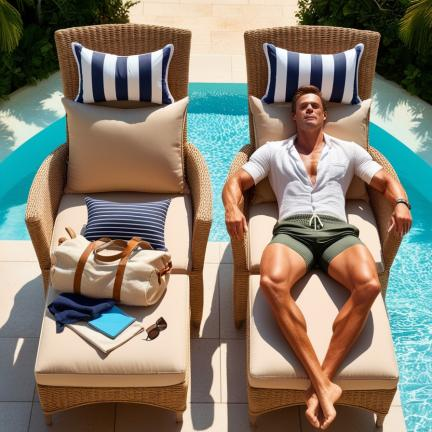guest on chair: (222, 26, 412, 428)
occupied chair: (25, 24, 212, 424)
